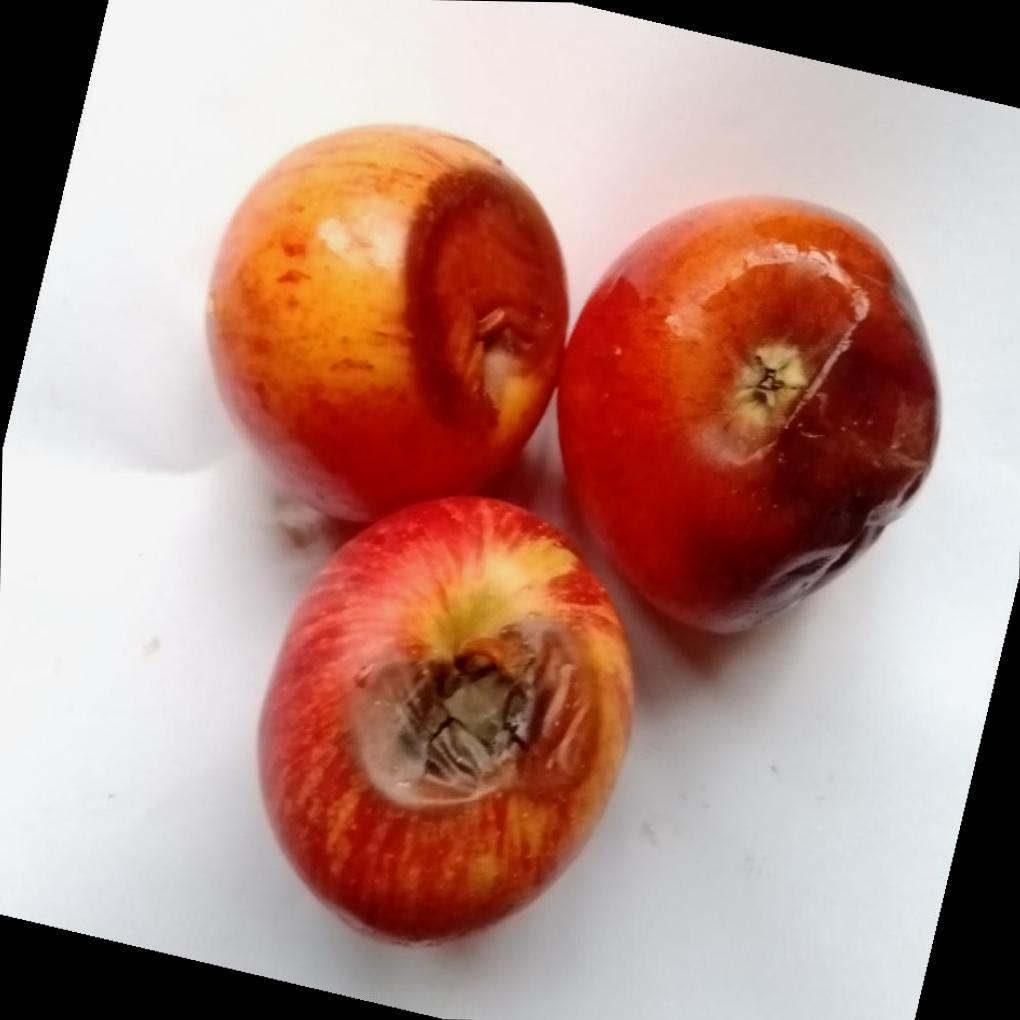FreshOrange: (204, 119, 886, 887)
